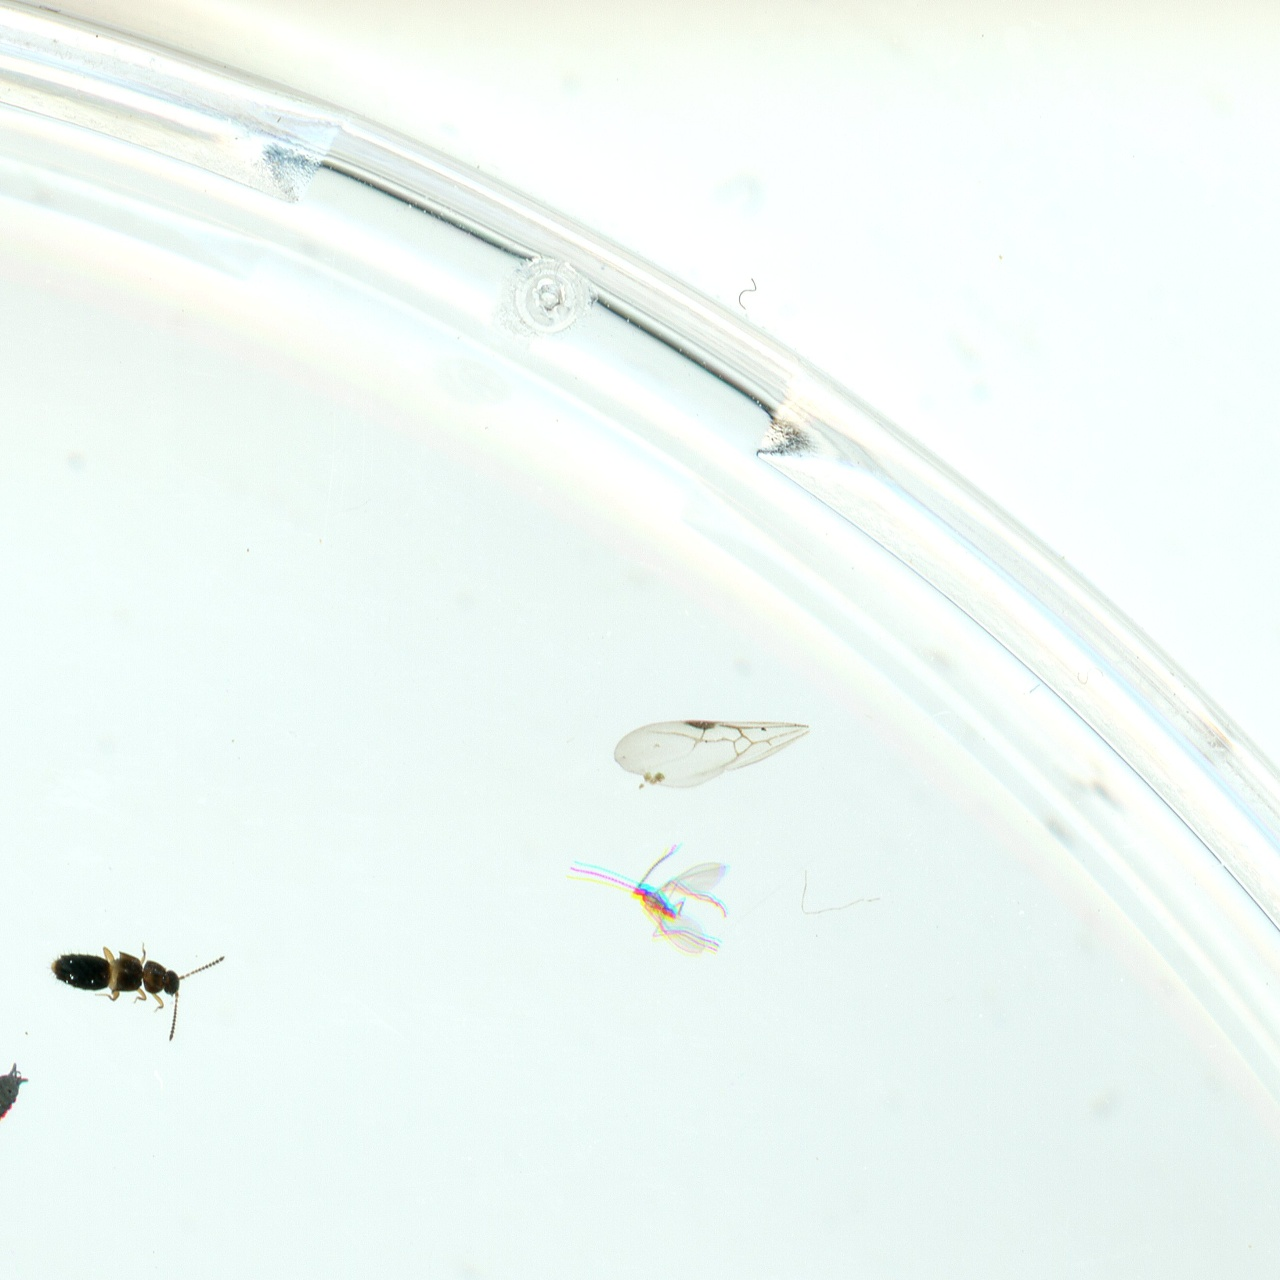arthropod: (567, 845, 728, 954), (53, 946, 226, 1045), (0, 1060, 32, 1137)
